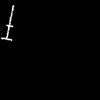double_crochet: (2, 6, 13, 40)
